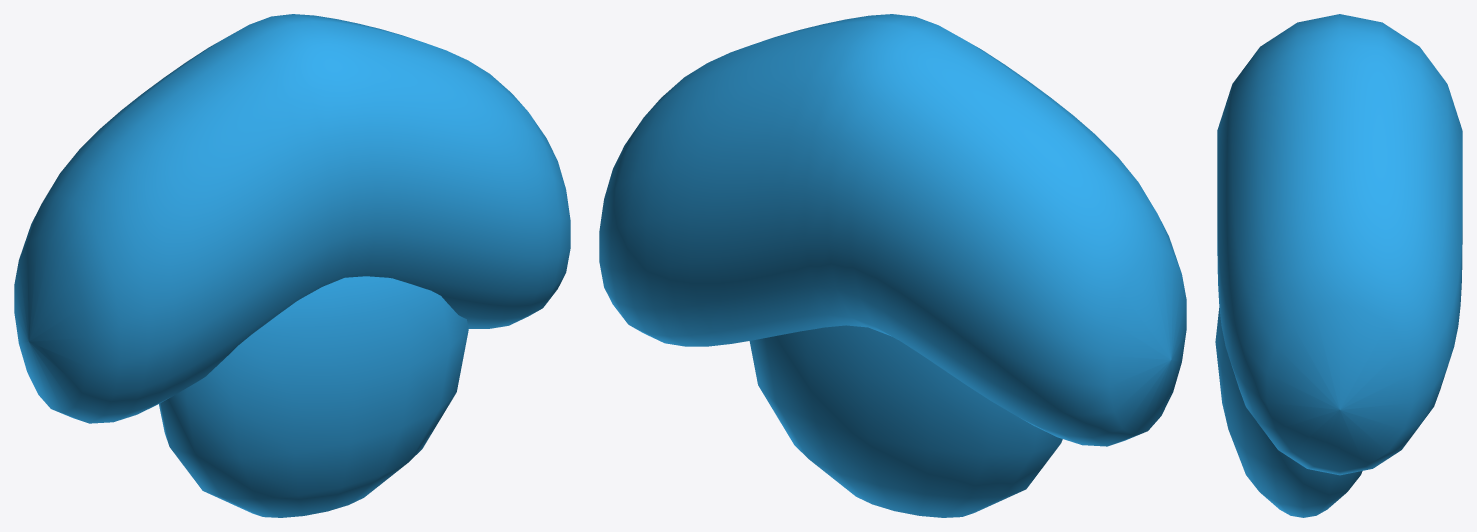
File: CloudSegment.fbx
3 views of the same model, side by side, from view 1: azimuth 30°, elevation 25°; view 2: azimuth 150°, elevation 25°; view 3: azimuth 270°, elevation 25° (orthographic). The views are drawn at different scales.
Visible parts, largest first — view 1: CloudSegment; view 2: CloudSegment; view 3: CloudSegment.
Boxes of the visible parts, x1,y1,x2,y2 form: CloudSegment: [14, 14, 570, 517]; CloudSegment: [599, 14, 1186, 517]; CloudSegment: [1215, 14, 1462, 517].
Size of the model in its own units: 1 by 0.86 by 0.4069.
